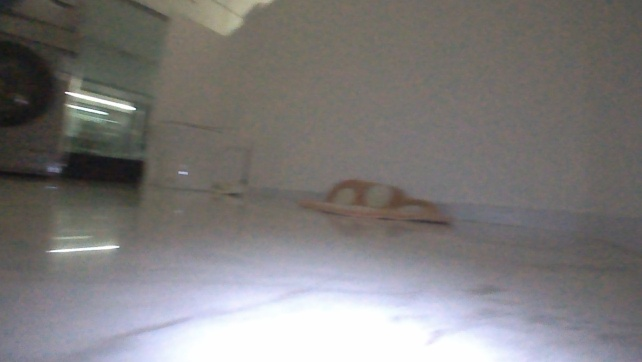blanket: (286, 166, 459, 232)
toilet: (144, 111, 268, 202)
washing_machine: (2, 15, 84, 182)
